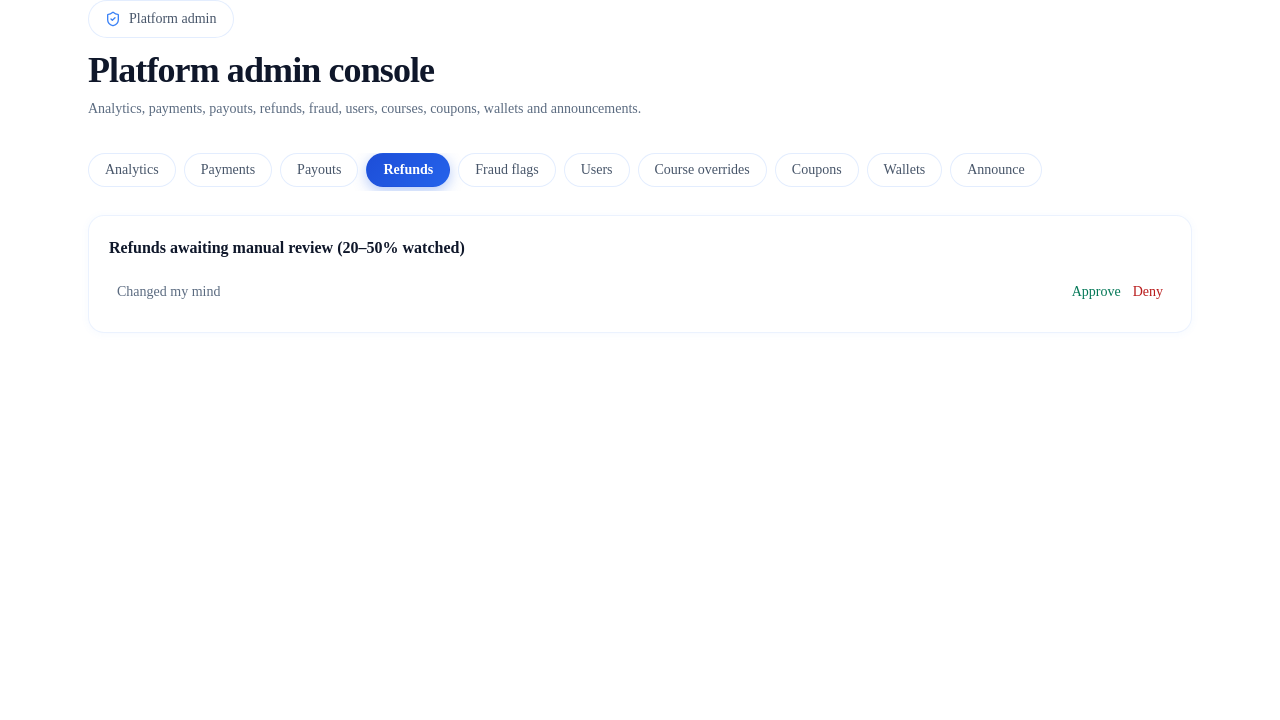
Scenario: Admin refunds: decide › leaves out a missing course and amount
The width and height of the screenshot is (1280, 720).
Click the button "Deny" at [1148, 292], box [1133,282,1163,302]
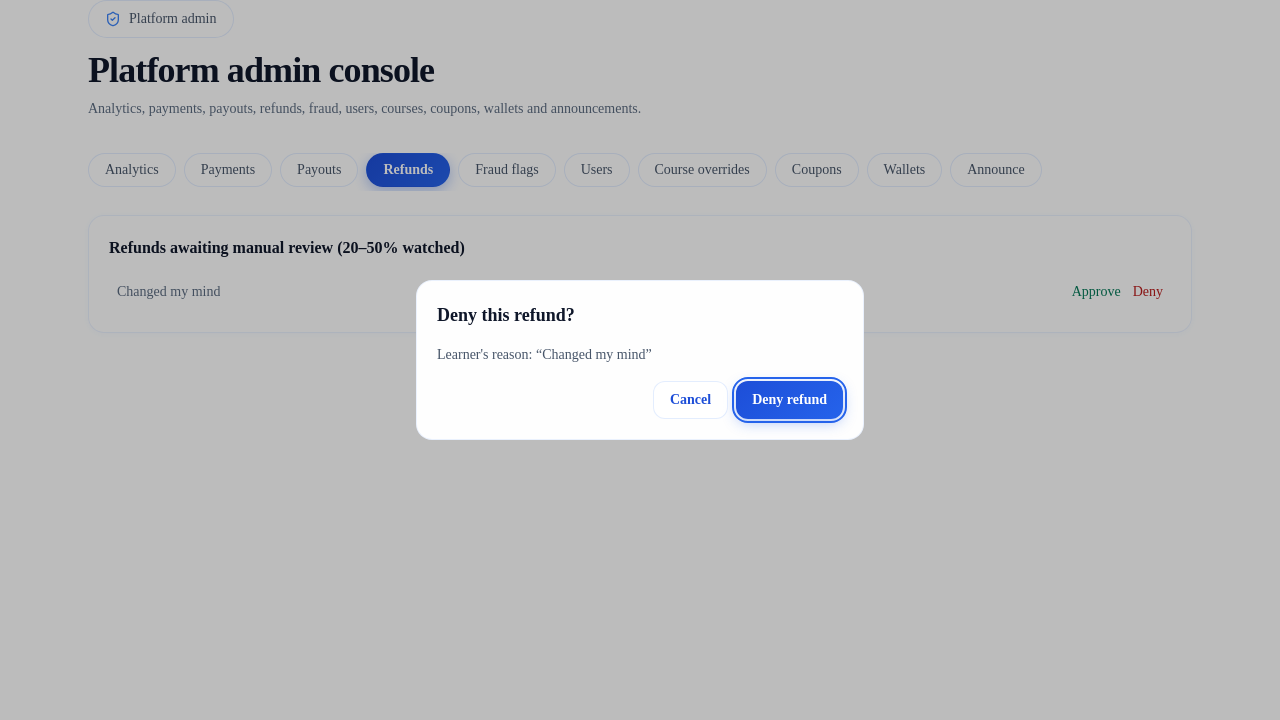
Expected: the heading "Deny this refund?" is shown, [437,305,575,325]
Expected: the text "Learner's reason: “Changed my mind”" is shown, [437,347,652,362]
